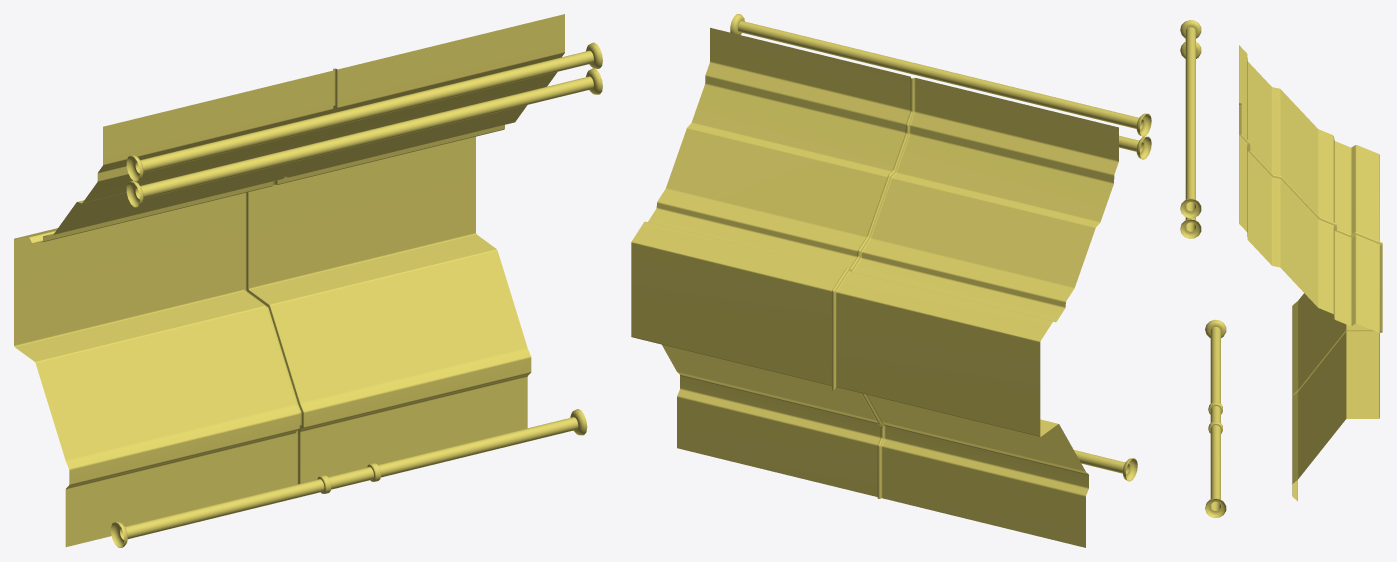
Rendered from WallScifi.fbx.
3 renders of one model, left to right at view 1: azimuth 30°, elevation 25°; view 2: azimuth 150°, elevation 25°; view 3: azimuth 270°, elevation 25°, orthographic. The views are drawn at different scales.
Visible parts, largest first — view 1: Wall1; view 2: Wall1; view 3: Wall1.
Boxes of the visible parts, left/top/right/bottom form: Wall1: left=14, top=14, right=602, bottom=547; Wall1: left=631, top=14, right=1151, bottom=547; Wall1: left=1180, top=20, right=1382, bottom=517.
Size of the model in its own units: 5438 by 5027 by 2599.
